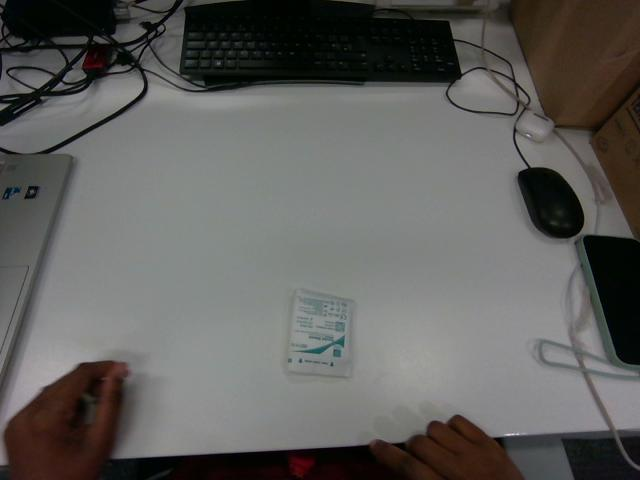gauze: (287, 289, 354, 376)
